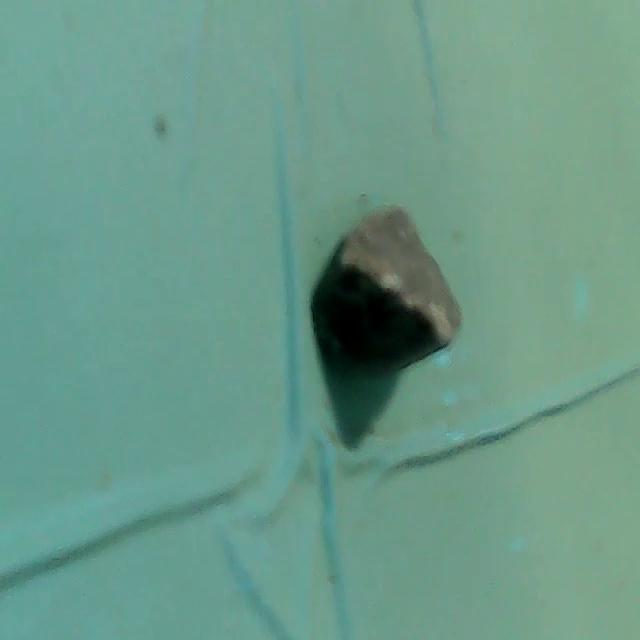rock: (312, 197, 464, 375)
